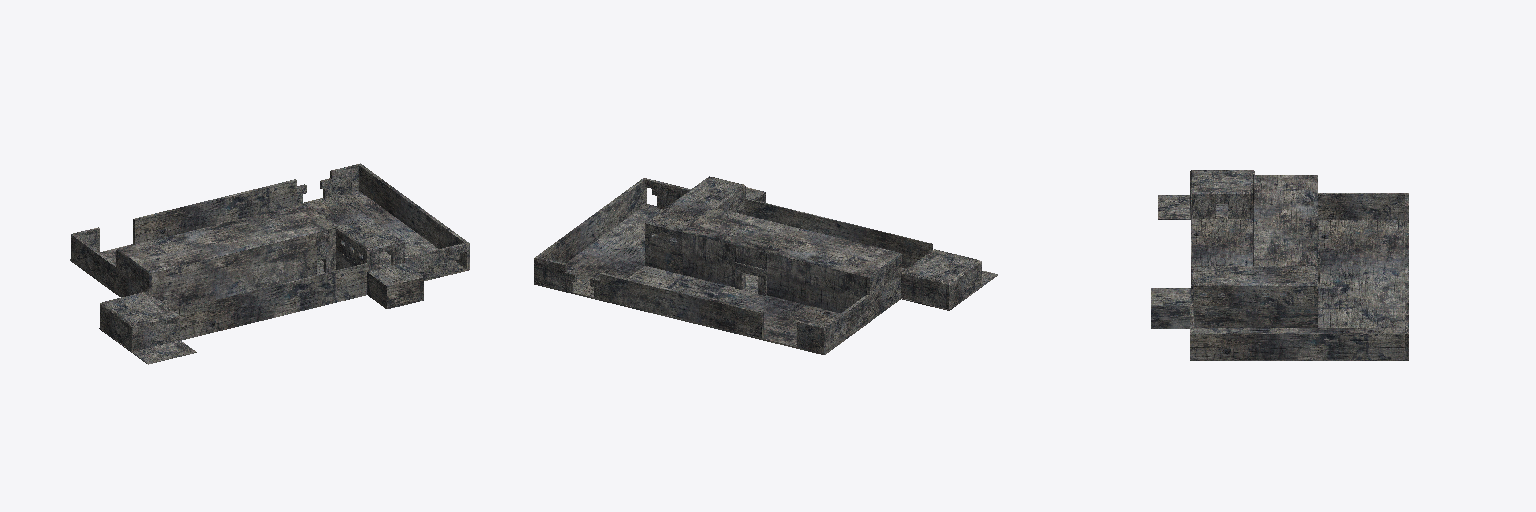
3 renders of one model, left to right at view 1: azimuth 30°, elevation 25°; view 2: azimuth 150°, elevation 25°; view 3: azimuth 270°, elevation 25°, orthographic.
Parts seen in each view (by area): view 1: new_moratorium:polySurface3 new_moratorium:group6 new_moratorium, new_moratorium:moratorium:pCube5, new_moratorium:moratorium:pCube26, new_moratorium:moratorium:pCube33, new_moratorium:moratorium:pCube38, new_moratorium:moratorium:pCube100 new_moratorium:group11, new_moratorium:moratorium:pCube25 new_moratorium:group14, new_moratorium:polySurface1 new_moratorium:moratorium:polySurfac, new_moratorium:moratorium:pCube36, new_moratorium:group23 new_moratorium:group22 new_moratorium:mor, new_moratorium:moratorium:pCube35, new_moratorium:moratorium:pCube28 (+5 smaller); view 2: new_moratorium:moratorium:pCube5, new_moratorium:moratorium:pCube32 new_moratorium:group5, new_moratorium:moratorium:pCube33, new_moratorium:pCube6 group3 new_moratorium:group18, new_moratorium:moratorium:pCube36, new_moratorium:moratorium:pCube26, new_moratorium:moratorium:pCube38, new_moratorium:pCube5 group1 new_moratorium:group15, new_moratorium:moratorium:pCube25 new_moratorium:group14, new_moratorium:polySurface1 new_moratorium:moratorium:polySurfac, new_moratorium:group23 new_moratorium:group22 new_moratorium:mor, new_moratorium:moratorium:pCube35 (+6 smaller); view 3: new_moratorium:moratorium:pCube32 new_moratorium:group5, new_moratorium:moratorium:pCube5, new_moratorium:moratorium:pCube38, new_moratorium:moratorium:pCube100 new_moratorium:group11, new_moratorium:moratorium:pCube8, new_moratorium:moratorium:polySurface4 new_moratorium:polySurfac, new_moratorium:moratorium:pCube35, new_moratorium:moratorium:pCube25 new_moratorium:group14, new_moratorium:moratorium:pCube36, new_moratorium:moratorium:pCube28, new_moratorium:moratorium:pCube27, new_moratorium:moratorium:pCube29 (+1 smaller).
Boxes of the visible parts, x1=… form: new_moratorium:polySurface3 new_moratorium:group6 new_moratorium: x1=152, y1=233, x2=316, y2=309; new_moratorium:moratorium:pCube5: x1=116, y1=204, x2=335, y2=273; new_moratorium:moratorium:pCube26: x1=179, y1=263, x2=367, y2=339; new_moratorium:moratorium:pCube33: x1=133, y1=179, x2=296, y2=244; new_moratorium:moratorium:pCube38: x1=359, y1=165, x2=469, y2=268; new_moratorium:moratorium:pCube100 new_moratorium:group11: x1=321, y1=242, x2=423, y2=308; new_moratorium:moratorium:pCube25 new_moratorium:group14: x1=308, y1=196, x2=398, y2=247; new_moratorium:polySurface1 new_moratorium:moratorium:polySurfac: x1=116, y1=229, x2=335, y2=296; new_moratorium:moratorium:pCube36: x1=303, y1=191, x2=469, y2=280; new_moratorium:group23 new_moratorium:group22 new_moratorium:mor: x1=106, y1=291, x2=179, y2=351; new_moratorium:moratorium:pCube35: x1=72, y1=235, x2=115, y2=291; new_moratorium:moratorium:pCube28: x1=105, y1=291, x2=174, y2=323; new_moratorium:moratorium:pCube5: x1=683, y1=208, x2=901, y2=277; new_moratorium:moratorium:pCube32 new_moratorium:group5: x1=599, y1=266, x2=869, y2=354; new_moratorium:moratorium:pCube33: x1=600, y1=272, x2=763, y2=337; new_moratorium:pCube6 group3 new_moratorium:group18: x1=767, y1=253, x2=866, y2=312; new_moratorium:moratorium:pCube36: x1=534, y1=204, x2=662, y2=299; new_moratorium:moratorium:pCube26: x1=745, y1=198, x2=932, y2=268; new_moratorium:moratorium:pCube38: x1=536, y1=178, x2=646, y2=262; new_moratorium:pCube5 group1 new_moratorium:group15: x1=682, y1=232, x2=735, y2=286; new_moratorium:moratorium:pCube25 new_moratorium:group14: x1=650, y1=177, x2=740, y2=228; new_moratorium:polySurface1 new_moratorium:moratorium:polySurfac: x1=867, y1=255, x2=901, y2=319; new_moratorium:group23 new_moratorium:group22 new_moratorium:mor: x1=901, y1=249, x2=981, y2=308; new_moratorium:moratorium:pCube35: x1=823, y1=295, x2=869, y2=352; new_moratorium:moratorium:pCube32 new_moratorium:group5: x1=1318, y1=220, x2=1404, y2=327; new_moratorium:moratorium:pCube5: x1=1253, y1=175, x2=1317, y2=266; new_moratorium:moratorium:pCube38: x1=1190, y1=333, x2=1405, y2=359; new_moratorium:moratorium:pCube100 new_moratorium:group11: x1=1151, y1=288, x2=1317, y2=328; new_moratorium:moratorium:pCube8: x1=1192, y1=219, x2=1252, y2=265; new_moratorium:moratorium:polySurface4 new_moratorium:polySurfac: x1=1194, y1=283, x2=1313, y2=305; new_moratorium:moratorium:pCube35: x1=1318, y1=193, x2=1405, y2=219; new_moratorium:moratorium:pCube25 new_moratorium:group14: x1=1194, y1=267, x2=1314, y2=282; new_moratorium:moratorium:pCube36: x1=1190, y1=328, x2=1408, y2=360; new_moratorium:moratorium:pCube28: x1=1194, y1=171, x2=1250, y2=191; new_moratorium:moratorium:pCube27: x1=1158, y1=195, x2=1227, y2=219; new_moratorium:moratorium:pCube29: x1=1228, y1=192, x2=1250, y2=218.
Bounding box in the file's own units: 218 × 28.05 × 144.
Materials: 2 (1 with a texture image).